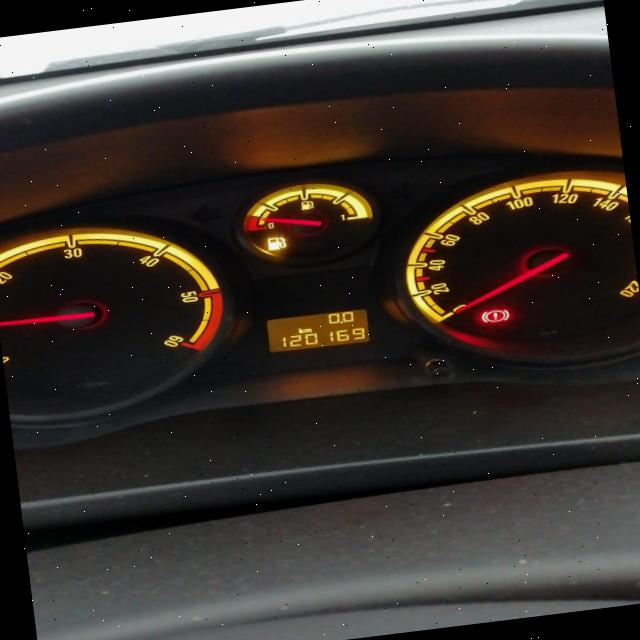odometer: (262, 306, 371, 354)
